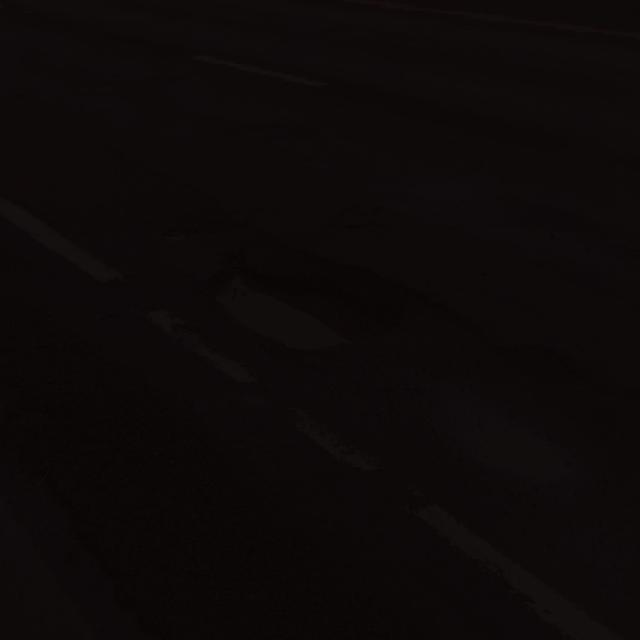Pothole: (212, 250, 398, 363), (432, 369, 585, 503), (0, 181, 126, 294), (188, 44, 326, 108)
